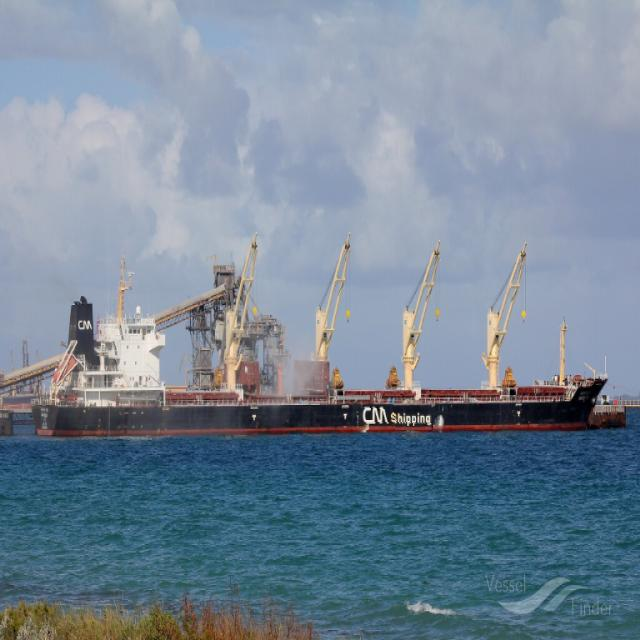OCR: (359, 401, 433, 430)
